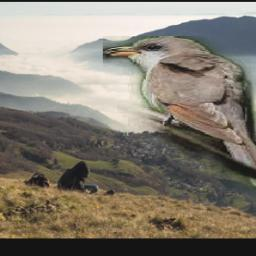Cuckoo: (104, 36, 256, 193)
